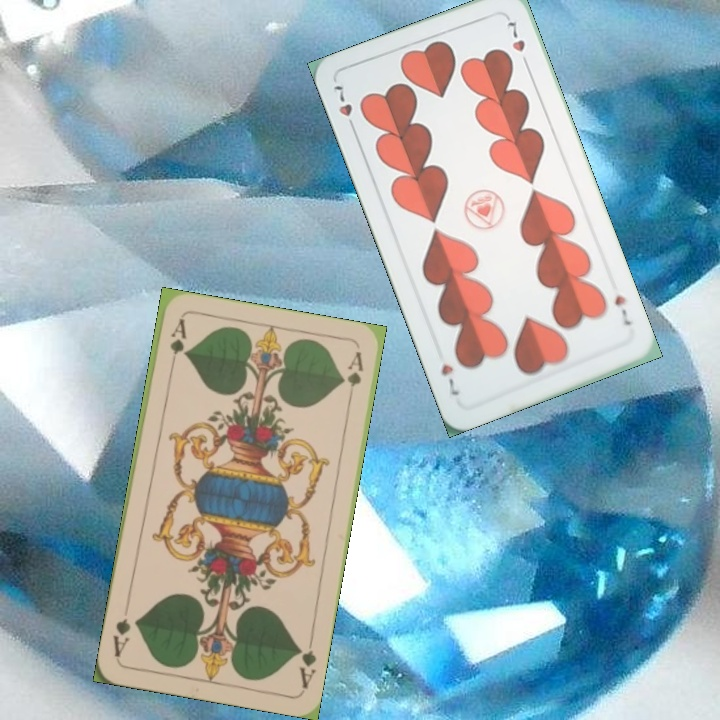GA: (293, 633, 319, 691), (165, 315, 188, 374)
H7: (329, 81, 359, 136), (610, 291, 634, 328)
